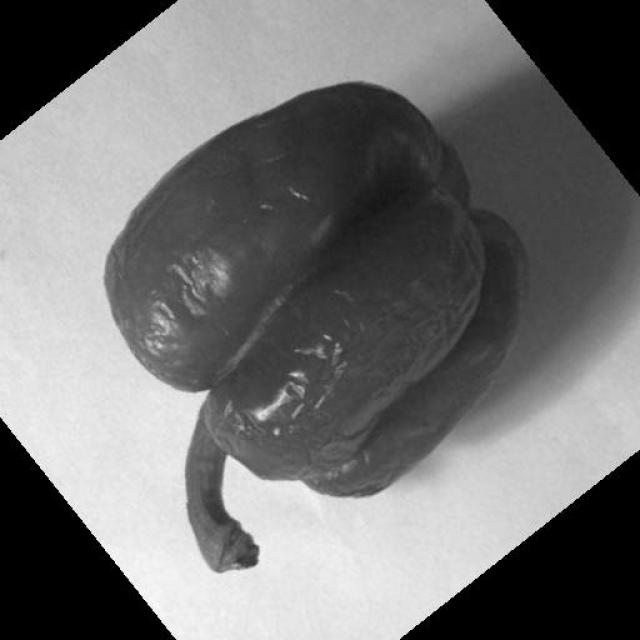Stale_Capsicum: (113, 57, 511, 504)
